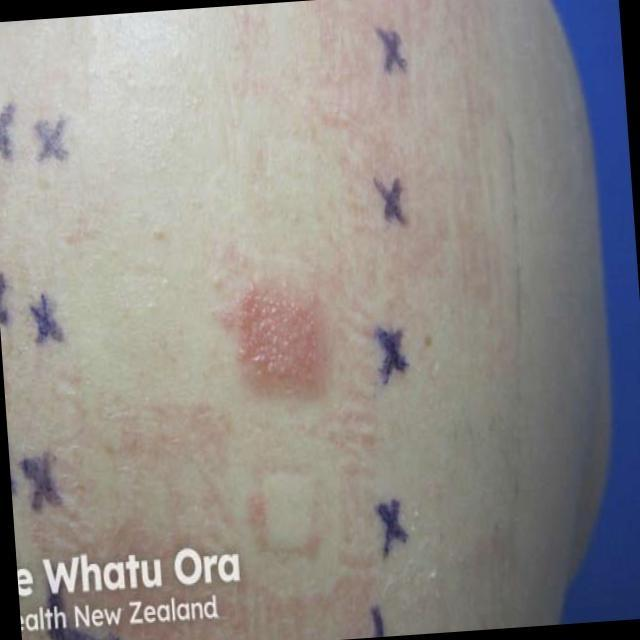Eczema: (222, 280, 342, 410)
